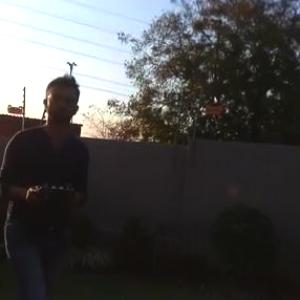follow: (0, 67, 93, 299)
